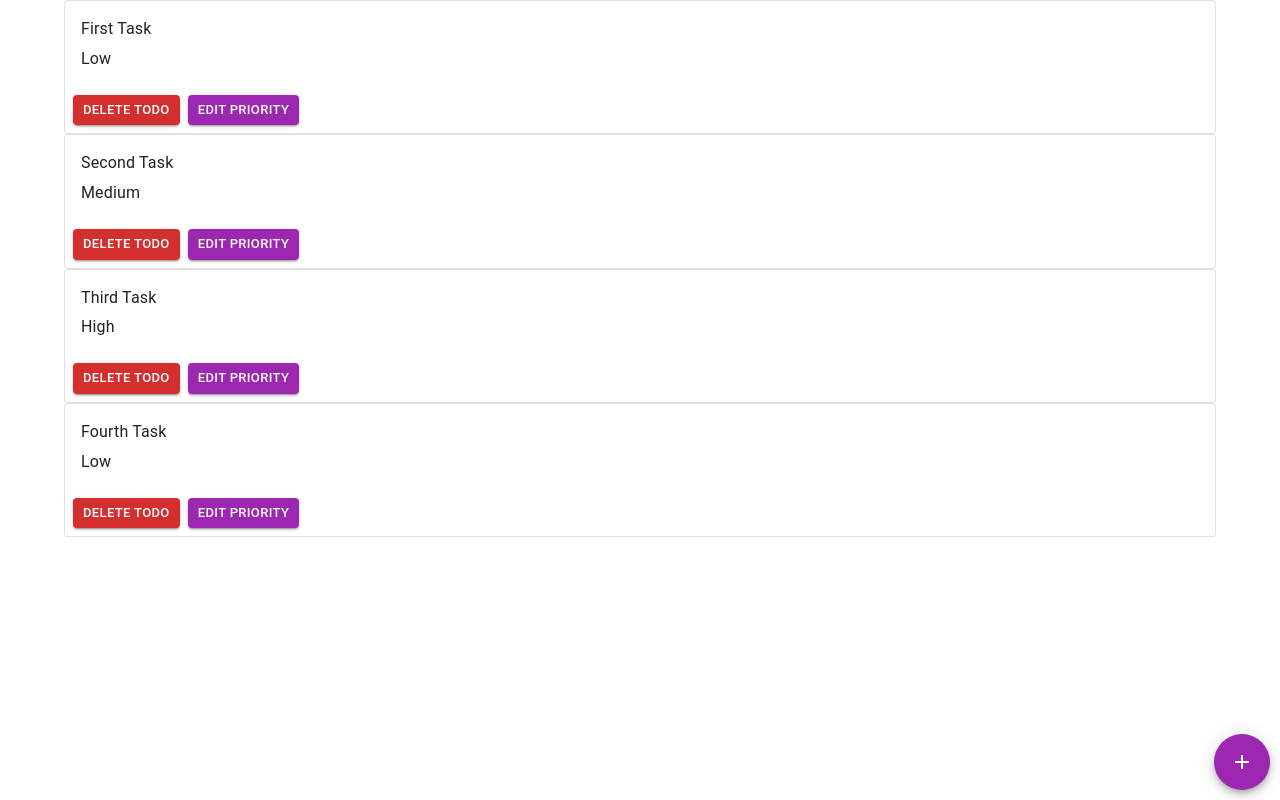
Scenario: Home › changes first todo priority
Click the button "Edit Priority" below "First Task" at (243, 110), box [188,95,299,125]
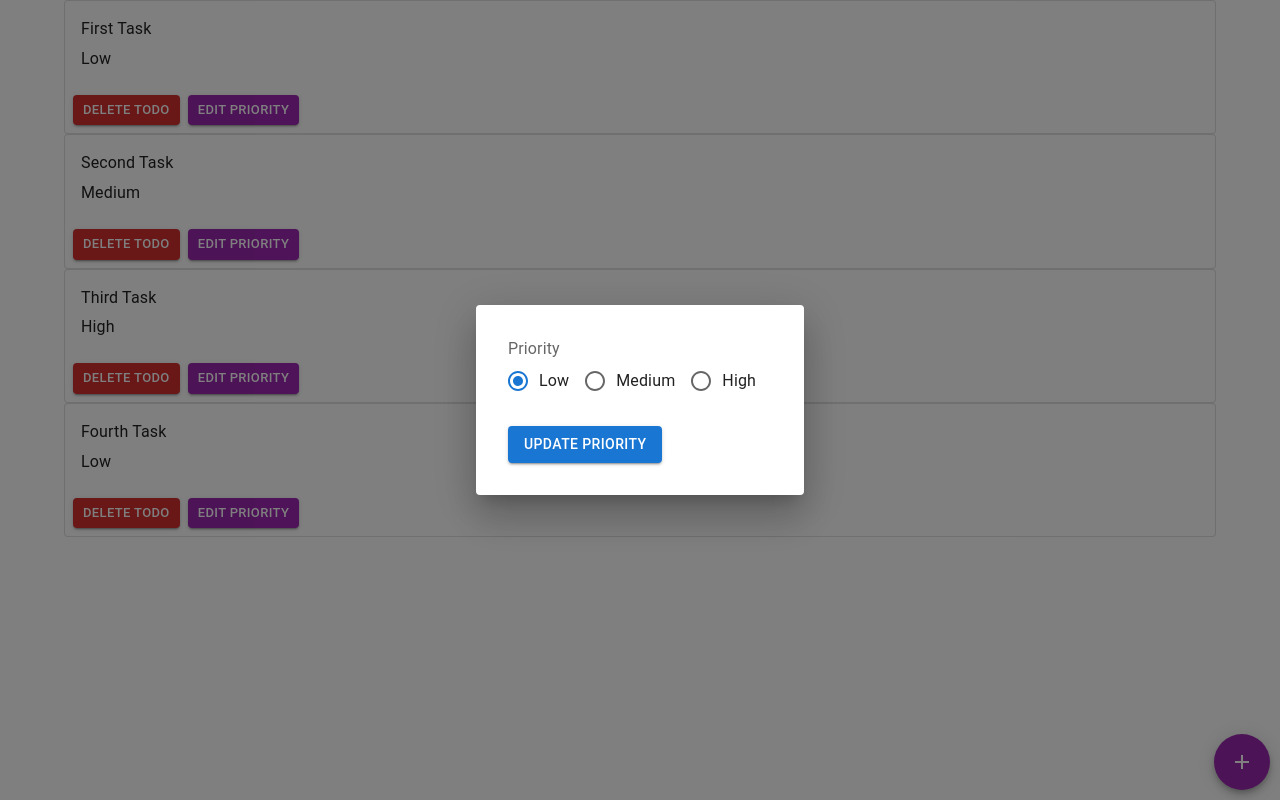
Check: the button "Update Priority" is shown, box [508,426,662,463]
Click the radio button labelled "High" at (723, 381), box [689,369,756,393]
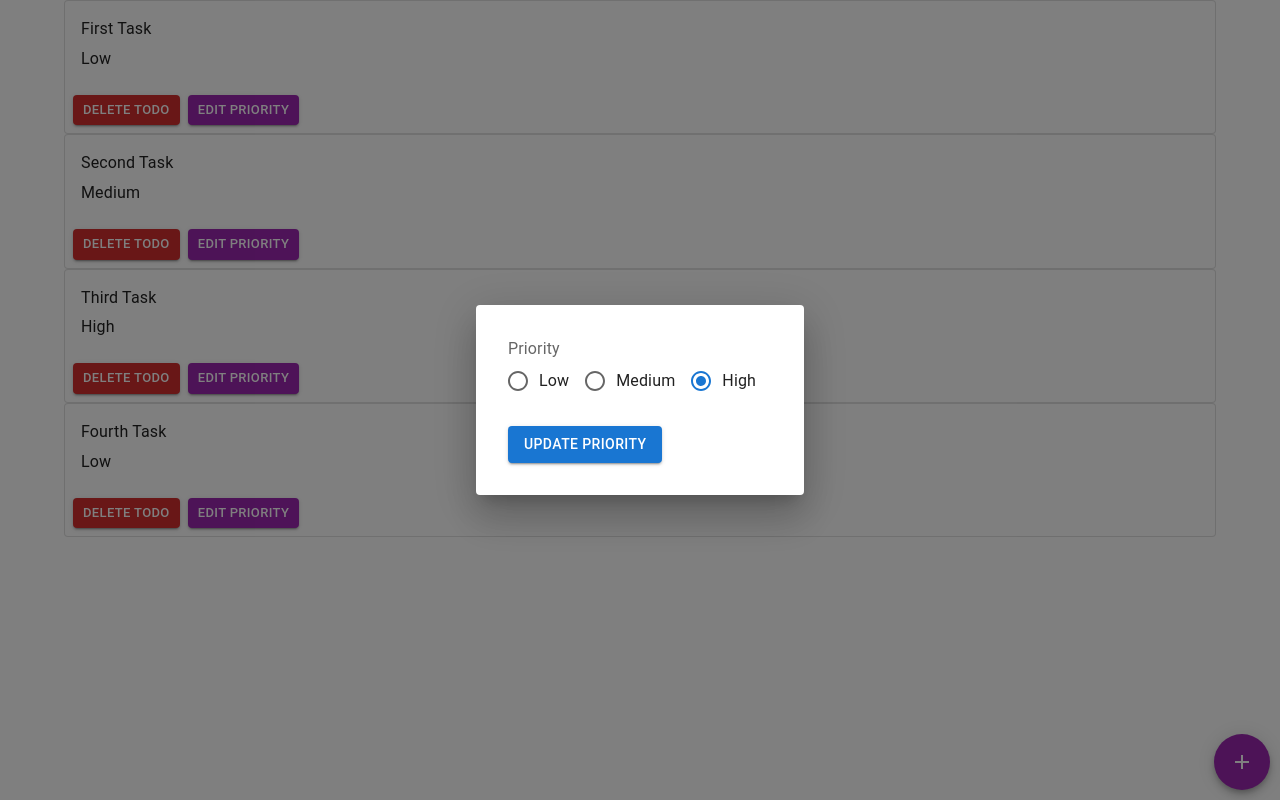
Click the button "Update Priority" at (585, 445), box [508,426,662,463]
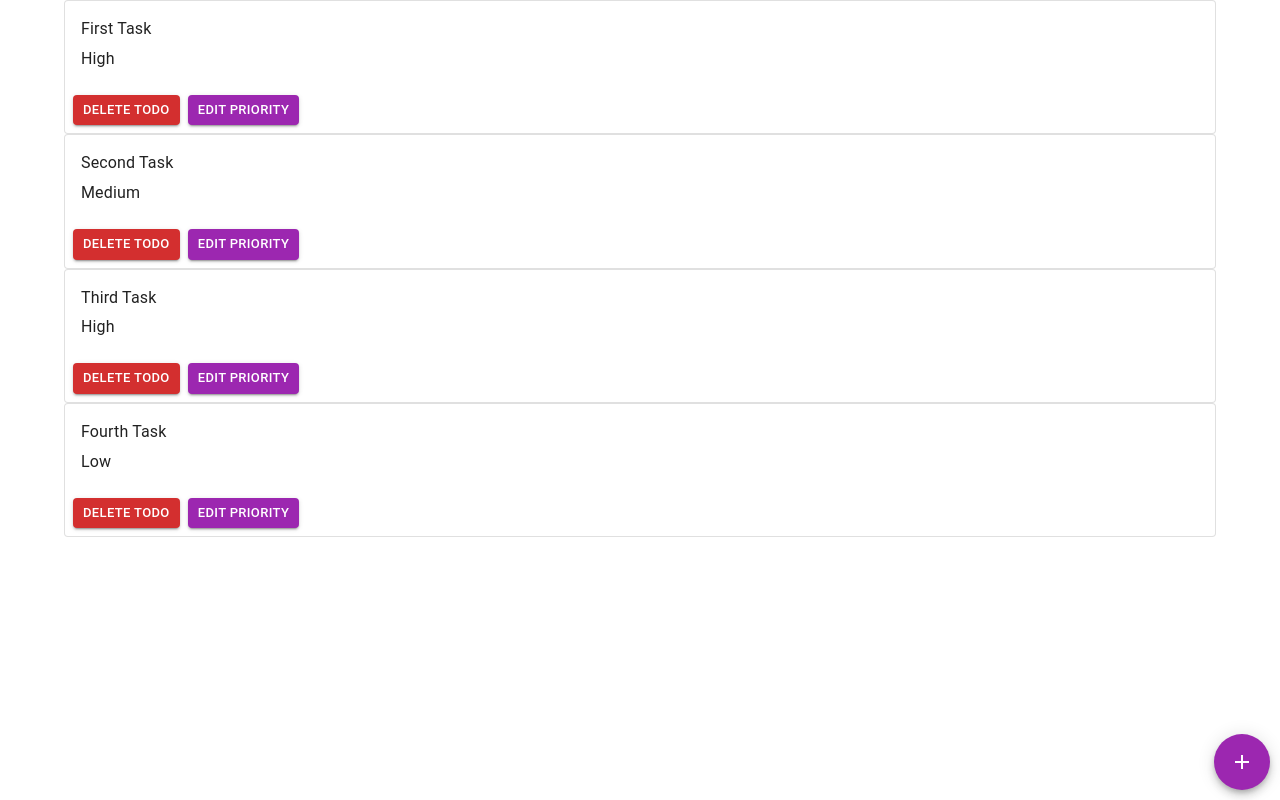
Check: the button "Update Priority" is gone
Check: the text "High" below "First Task" is shown, box [81,49,115,68]
